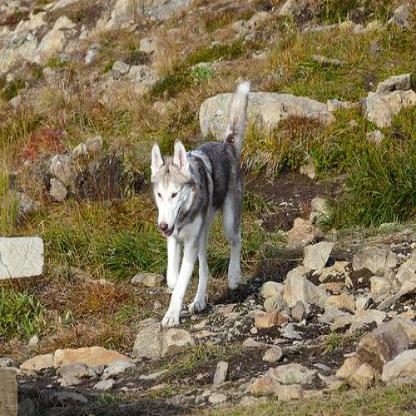Siberian_husky: (148, 76, 251, 330)
